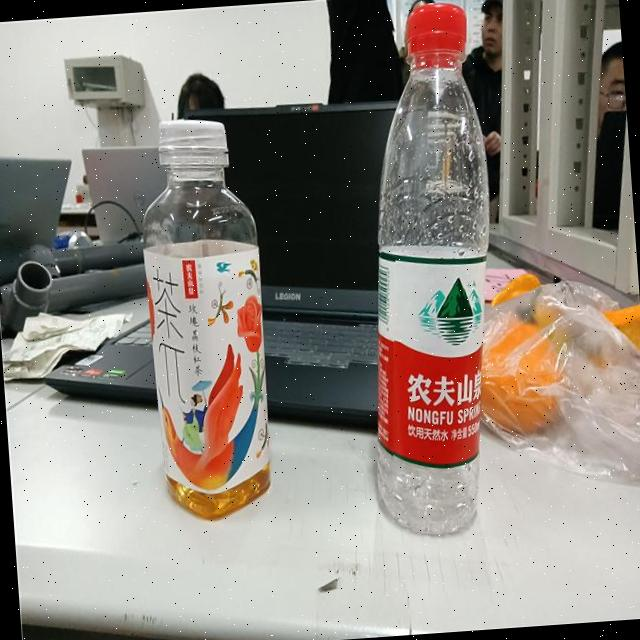orange-peel: (470, 262, 640, 442)
